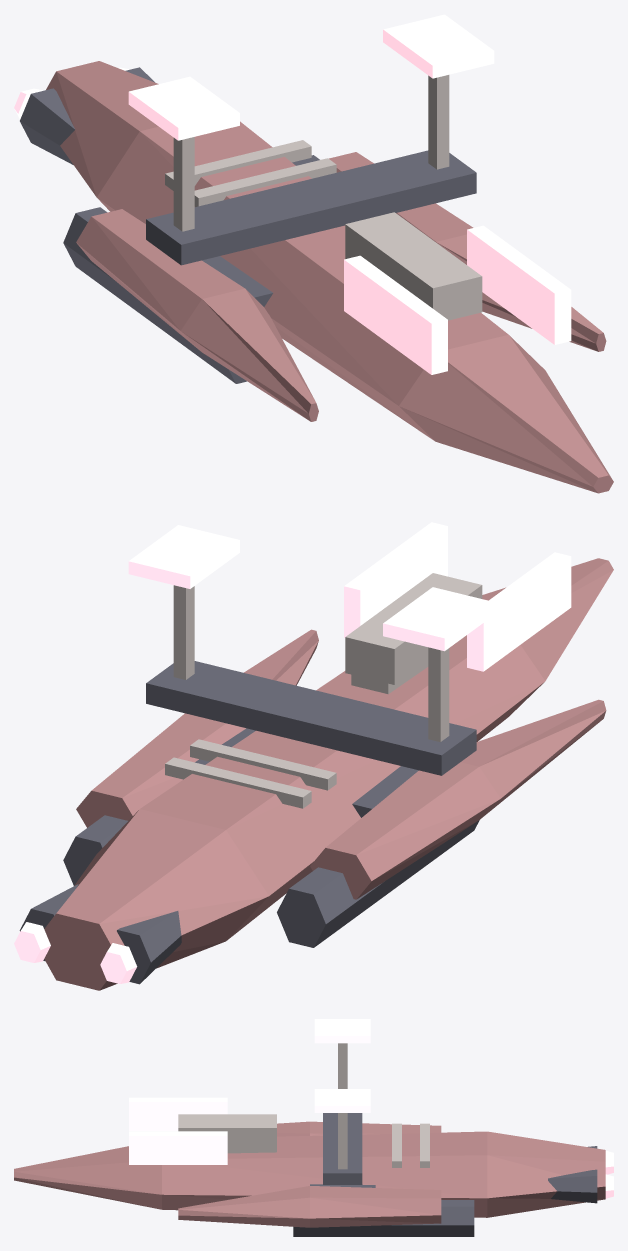
3 renders of one model, top to bottom at view 1: azimuth 30°, elevation 25°; view 2: azimuth 150°, elevation 25°; view 3: azimuth 270°, elevation 25°, orthographic. The views are drawn at different scales.
Size of the model in its own units: 2.68 by 2.04 by 7.74.
